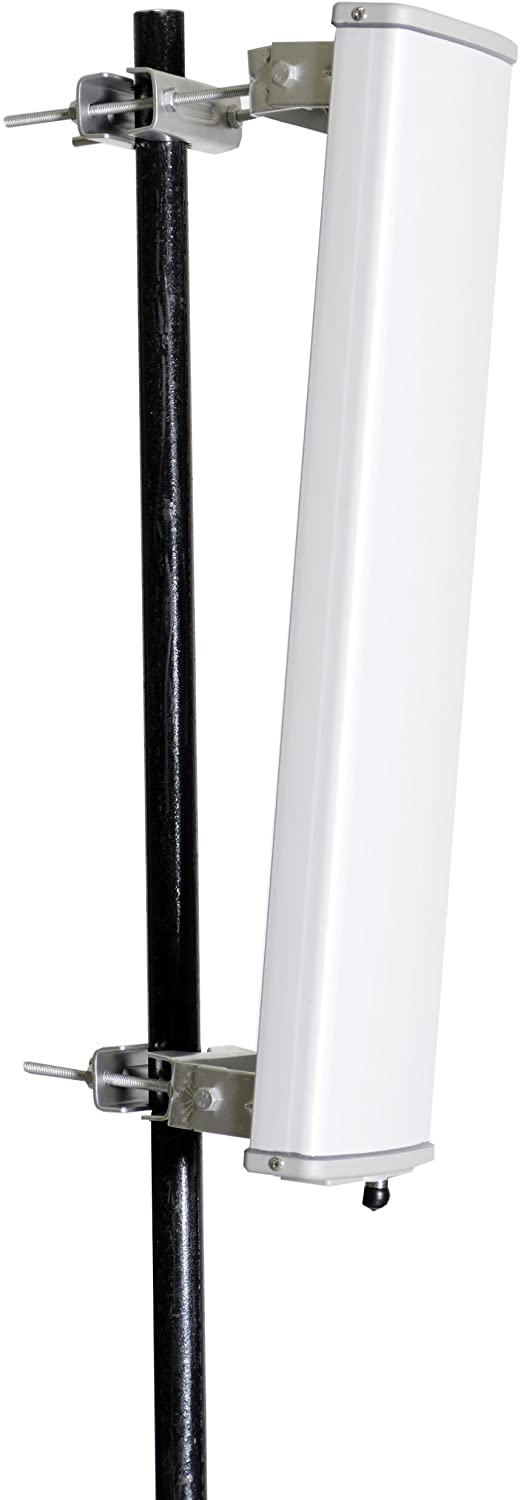sa: (121, 24, 519, 1233)
